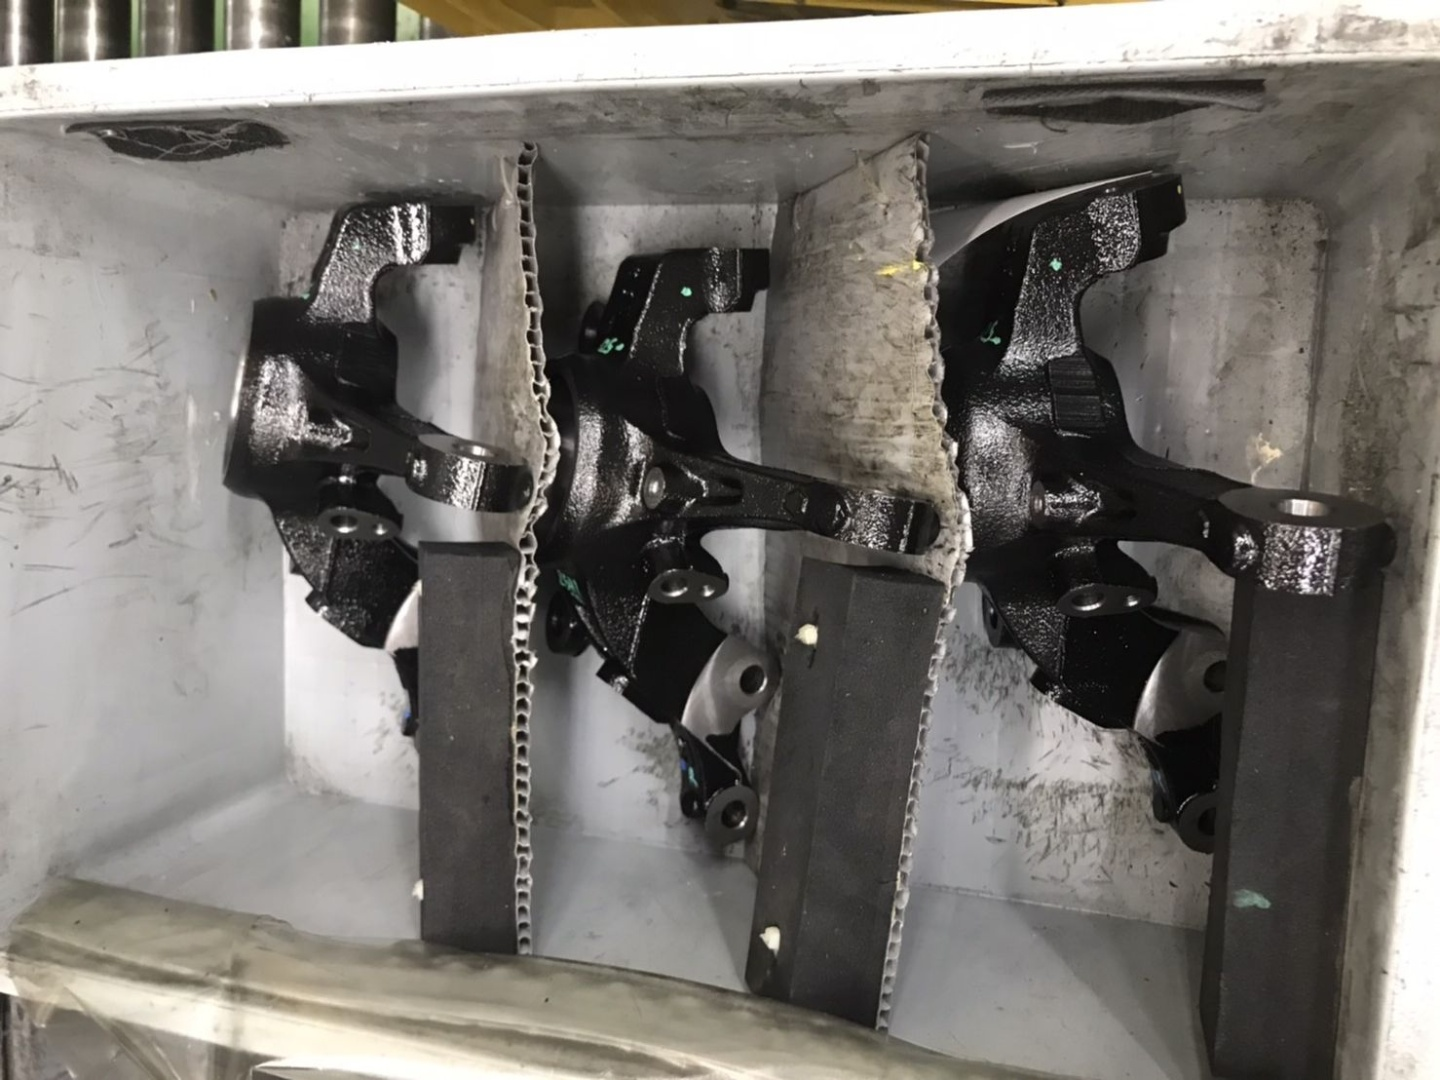abs-rh: (946, 163, 1408, 874), (550, 233, 946, 861), (211, 184, 544, 798)
